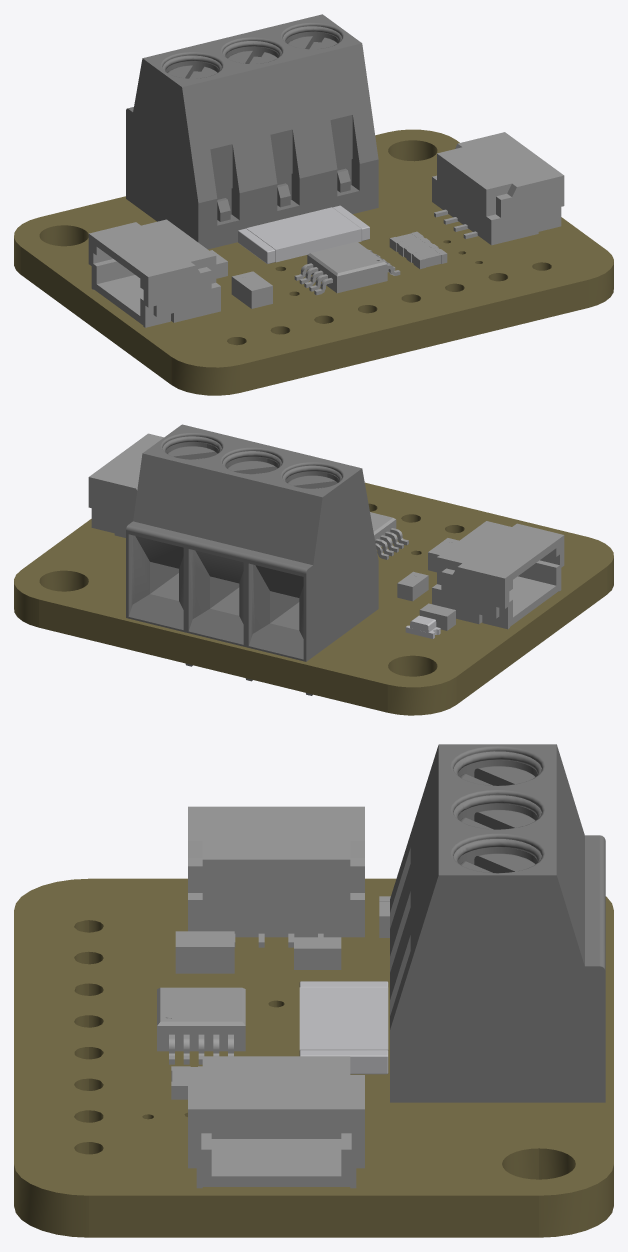
Rendered from ada-5832.glb.
3 views of the same model, one above another, from view 1: azimuth 30°, elevation 25°; view 2: azimuth 150°, elevation 25°; view 3: azimuth 270°, elevation 25° (orthographic). The views are drawn at different scales.
Visible parts, largest first — view 1: 0.16666666666666666_0.16666666666666666_0.08333333333333333_, 0.25_0.25_0.25_0, 0.3333333333333333_0.3333333333333333_0.3333333333333333_0, 0.5833333333333334_0.5833333333333334_0.5833333333333334_0.8; view 2: 0.25_0.25_0.25_0, 0.16666666666666666_0.16666666666666666_0.08333333333333333_, 0.3333333333333333_0.3333333333333333_0.3333333333333333_0, 0.5833333333333334_0.5833333333333334_0.5833333333333334_0.8; view 3: 0.16666666666666666_0.16666666666666666_0.08333333333333333_, 0.25_0.25_0.25_0, 0.3333333333333333_0.3333333333333333_0.3333333333333333_0, 0.5833333333333334_0.5833333333333334_0.5833333333333334_0.8.
Part boxes in pixels (x1,y1,x2,y2): 0.16666666666666666_0.16666666666666666_0.08333333333333333_: (14,129,613,395); 0.25_0.25_0.25_0: (126,14,378,249); 0.3333333333333333_0.3333333333333333_0.3333333333333333_0: (88,132,564,327); 0.5833333333333334_0.5833333333333334_0.5833333333333334_0.8: (238,205,369,263); 0.25_0.25_0.25_0: (126,424,378,695); 0.16666666666666666_0.16666666666666666_0.08333333333333333_: (14,482,613,715); 0.3333333333333333_0.3333333333333333_0.3333333333333333_0: (88,433,564,630); 0.5833333333333334_0.5833333333333334_0.5833333333333334_0.8: (405,615,440,638); 0.16666666666666666_0.16666666666666666_0.08333333333333333_: (14,878,613,1237); 0.25_0.25_0.25_0: (390,744,605,1102); 0.3333333333333333_0.3333333333333333_0.3333333333333333_0: (157,806,390,1188); 0.5833333333333334_0.5833333333333334_0.5833333333333334_0.8: (299,981,388,1074).
Bounding box in the file's own units: 2.54 × 1.21 × 2.03.
